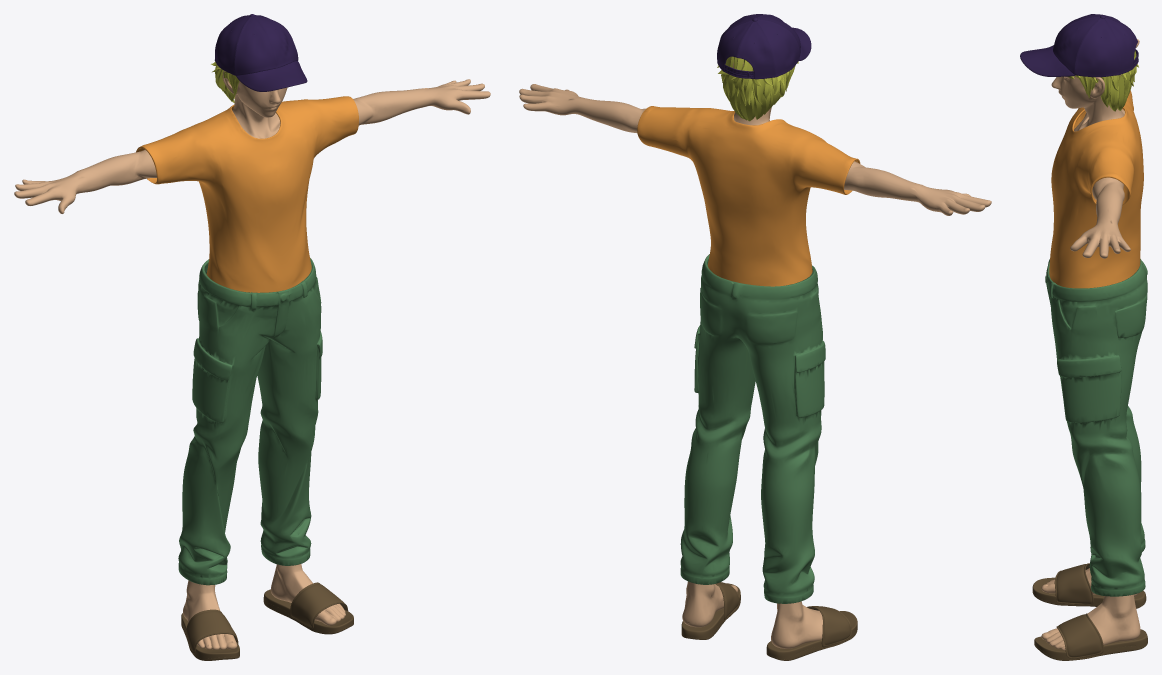
File: boy.fbx
3 views of the same model, side by side, from view 1: azimuth 30°, elevation 25°; view 2: azimuth 150°, elevation 25°; view 3: azimuth 270°, elevation 25° (orthographic).
Parts seen in each view (by area): view 1: Hair; view 2: Hair; view 3: Hair.
Boxes of the visible parts, left/top/right/bottom form: Hair: left=14, top=14, right=490, bottom=660; Hair: left=519, top=14, right=991, bottom=660; Hair: left=1020, top=14, right=1147, bottom=660.
Size of the model in its own units: 139 by 175 by 33.36.
